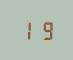nine: (36, 20, 52, 40)
one: (19, 20, 35, 40)
